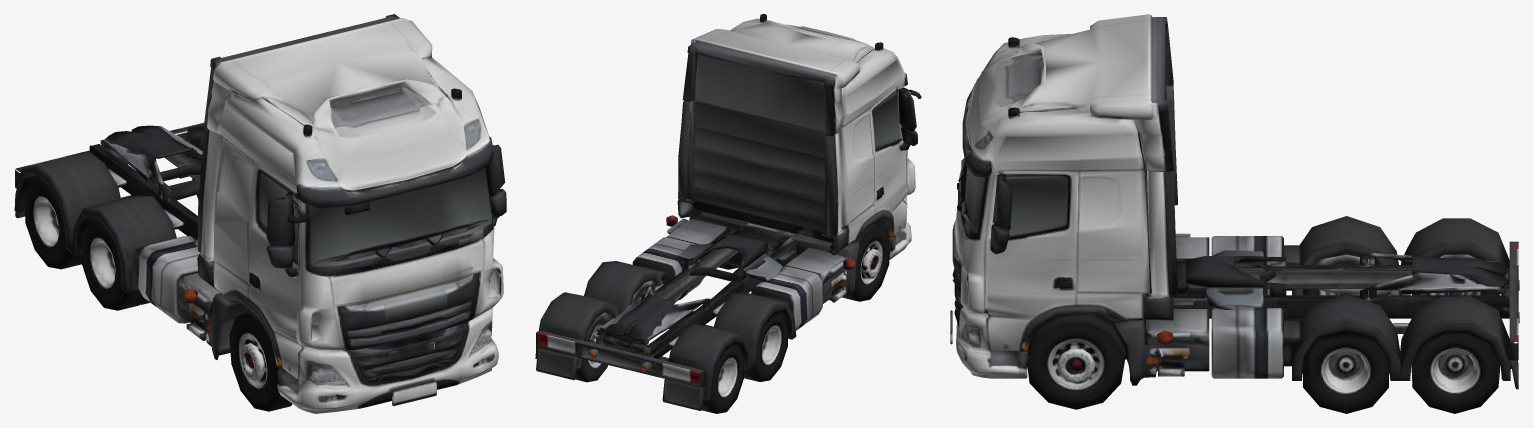
File: truck-white.glb
The picture shows the model from 3 angles, left to right: view 1: azimuth 30°, elevation 25°; view 2: azimuth 150°, elevation 25°; view 3: azimuth 270°, elevation 25°; orthographic projection. The views are drawn at different scales.
Visible parts, largest first — view 1: tripo_node_0708e5a1-a080-4ef8-af13-f420ea5ebadb; view 2: tripo_node_0708e5a1-a080-4ef8-af13-f420ea5ebadb; view 3: tripo_node_0708e5a1-a080-4ef8-af13-f420ea5ebadb.
Part boxes in pixels (box(x1,y1,x2,y2)): tripo_node_0708e5a1-a080-4ef8-af13-f420ea5ebadb: box(14, 14, 506, 413); tripo_node_0708e5a1-a080-4ef8-af13-f420ea5ebadb: box(535, 14, 921, 413); tripo_node_0708e5a1-a080-4ef8-af13-f420ea5ebadb: box(950, 14, 1519, 413).
Bounding box in the file's own units: 3.03 × 3.82 × 6.4.
Materials: 1 (1 with a texture image).
